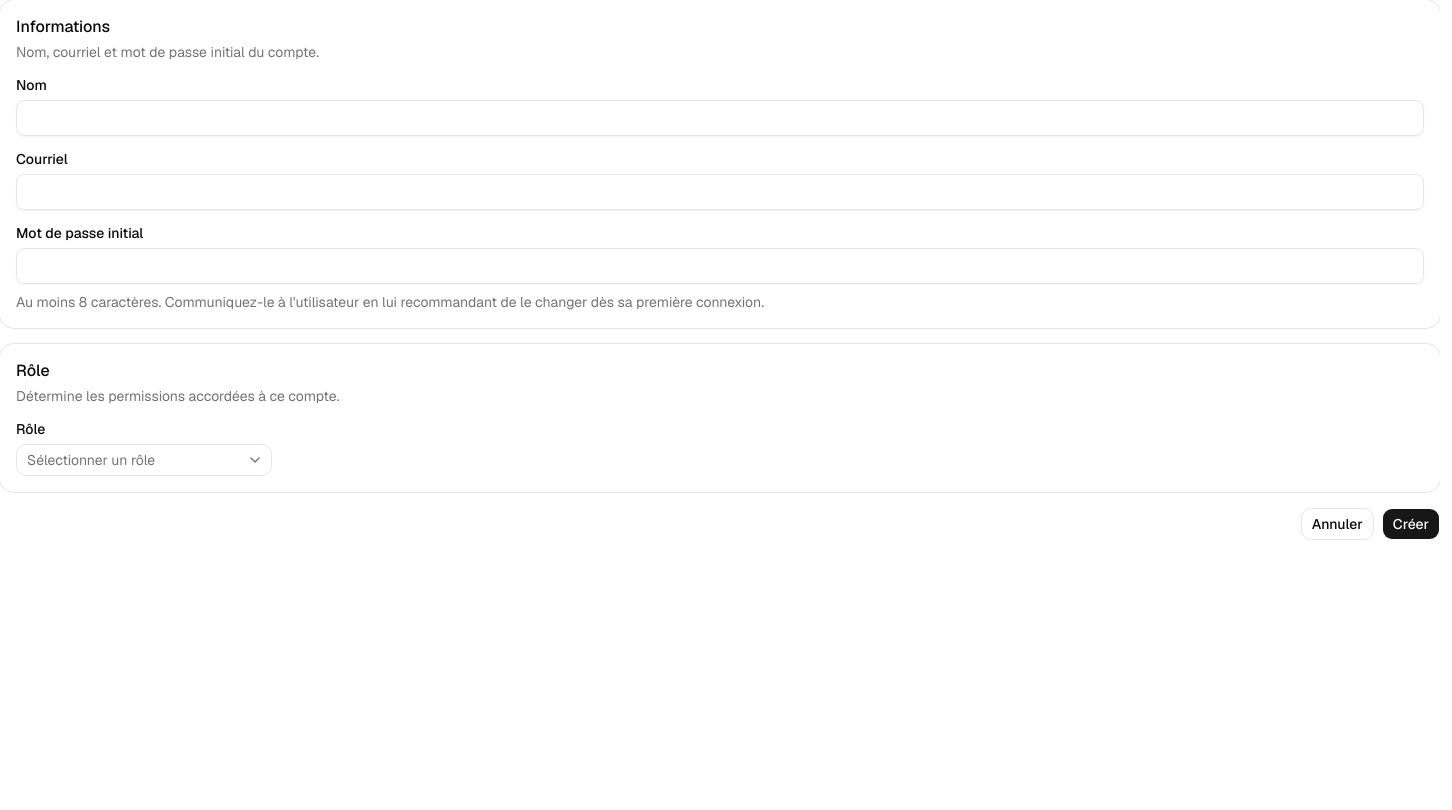
Test: UserCreateForm › affiche une erreur de validation si aucun rôle n'est sélectionné
The image size is (1452, 810).
Type "Nouvelle Personne" into the field labelled "Nom" at (720, 118), box x1=16 y1=100 x2=1424 y2=136
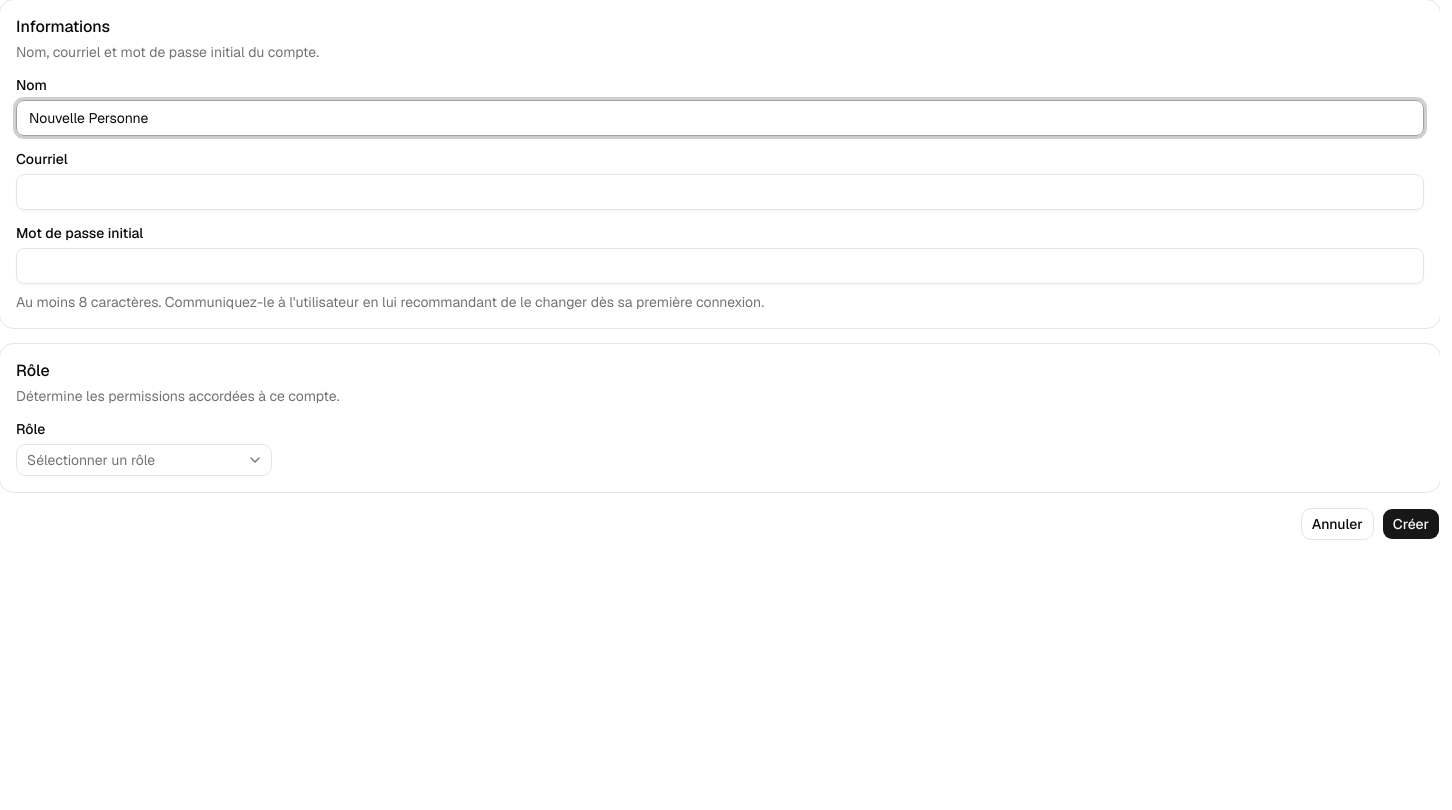
Type "nouvelle@exemple.com" into the field labelled "Courriel" at (720, 192), box x1=16 y1=174 x2=1424 y2=210
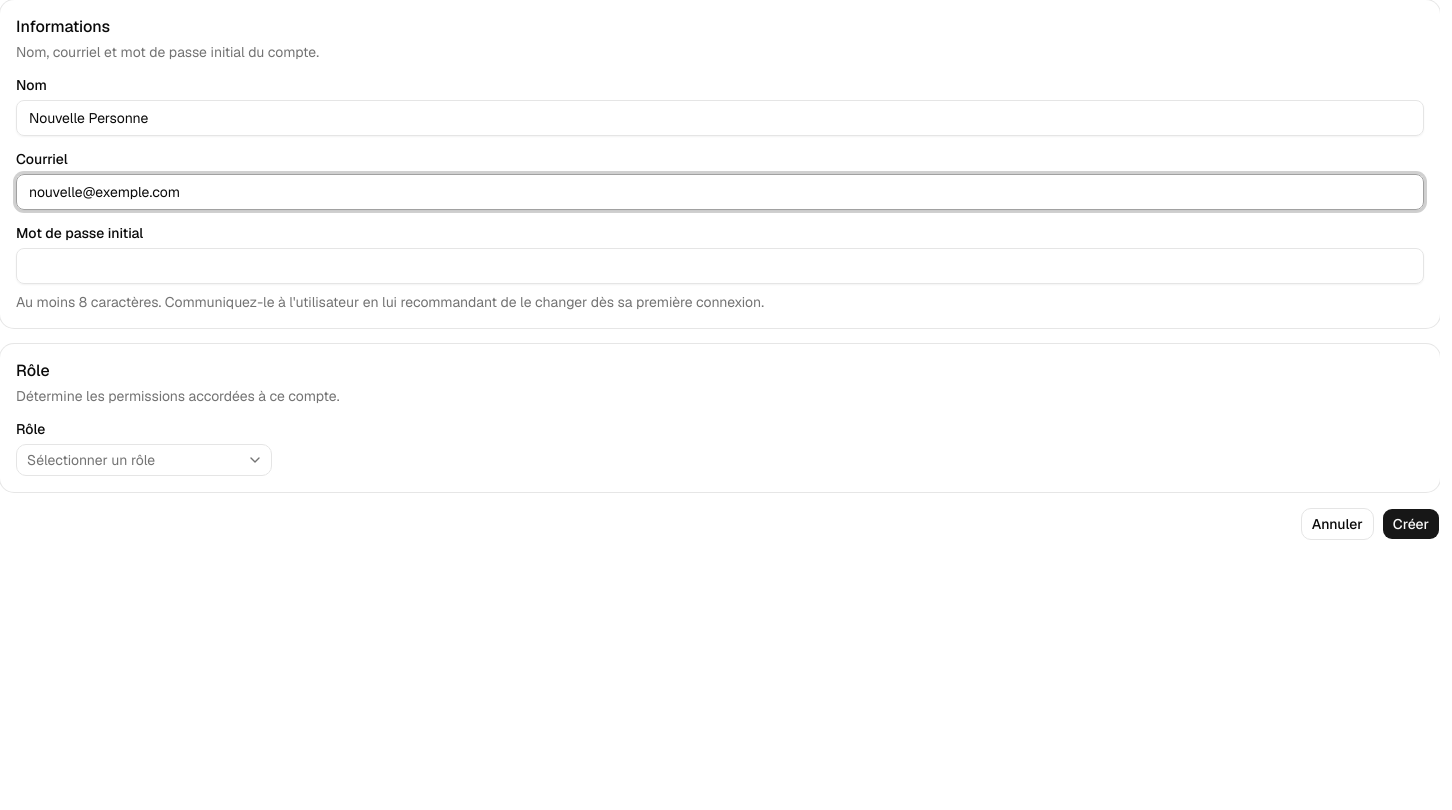
Type "motdepasse123" into the password field labelled "Mot de passe initial" at (720, 266), box x1=16 y1=248 x2=1424 y2=284
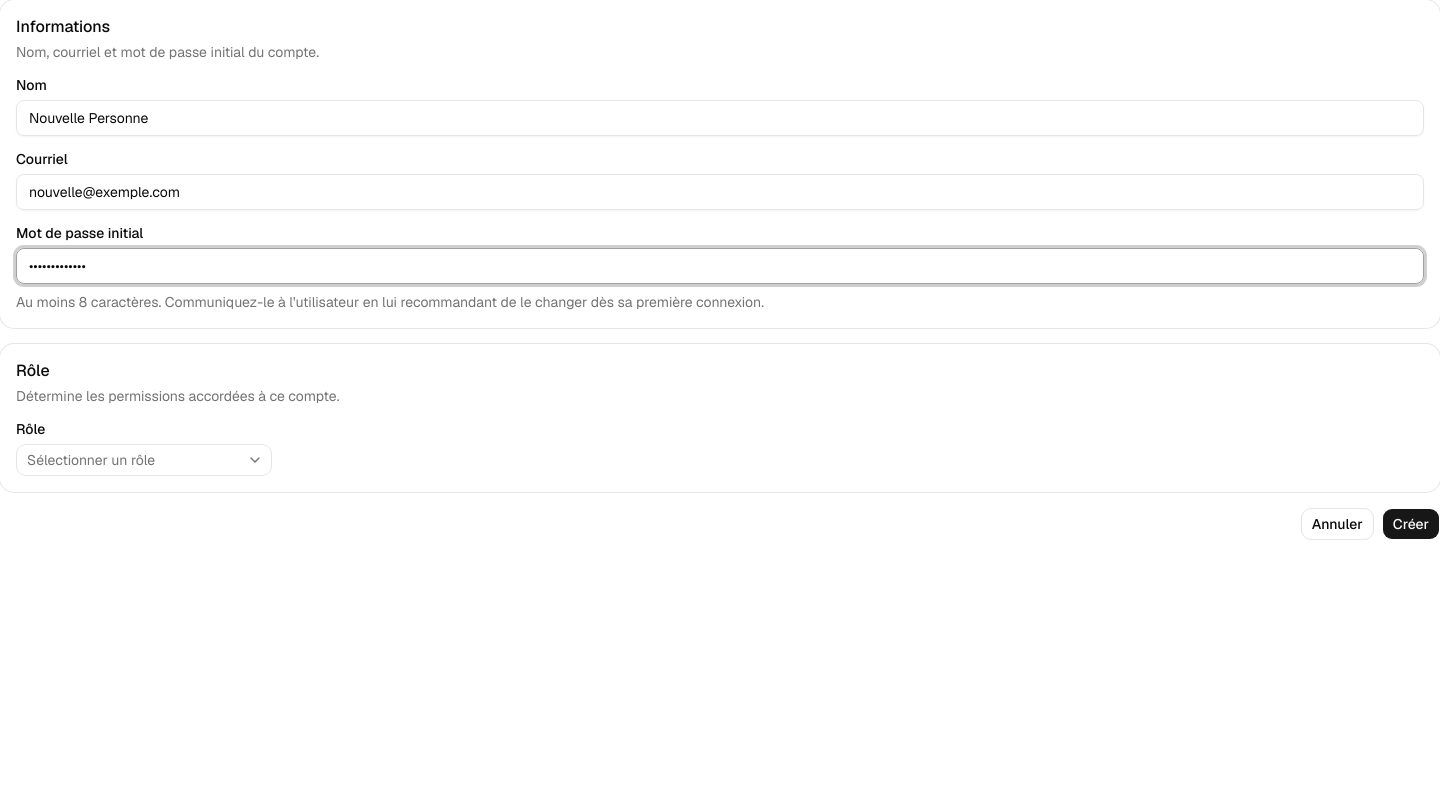
Click the button "Créer" at (1411, 524), box x1=1382 y1=508 x2=1440 y2=540
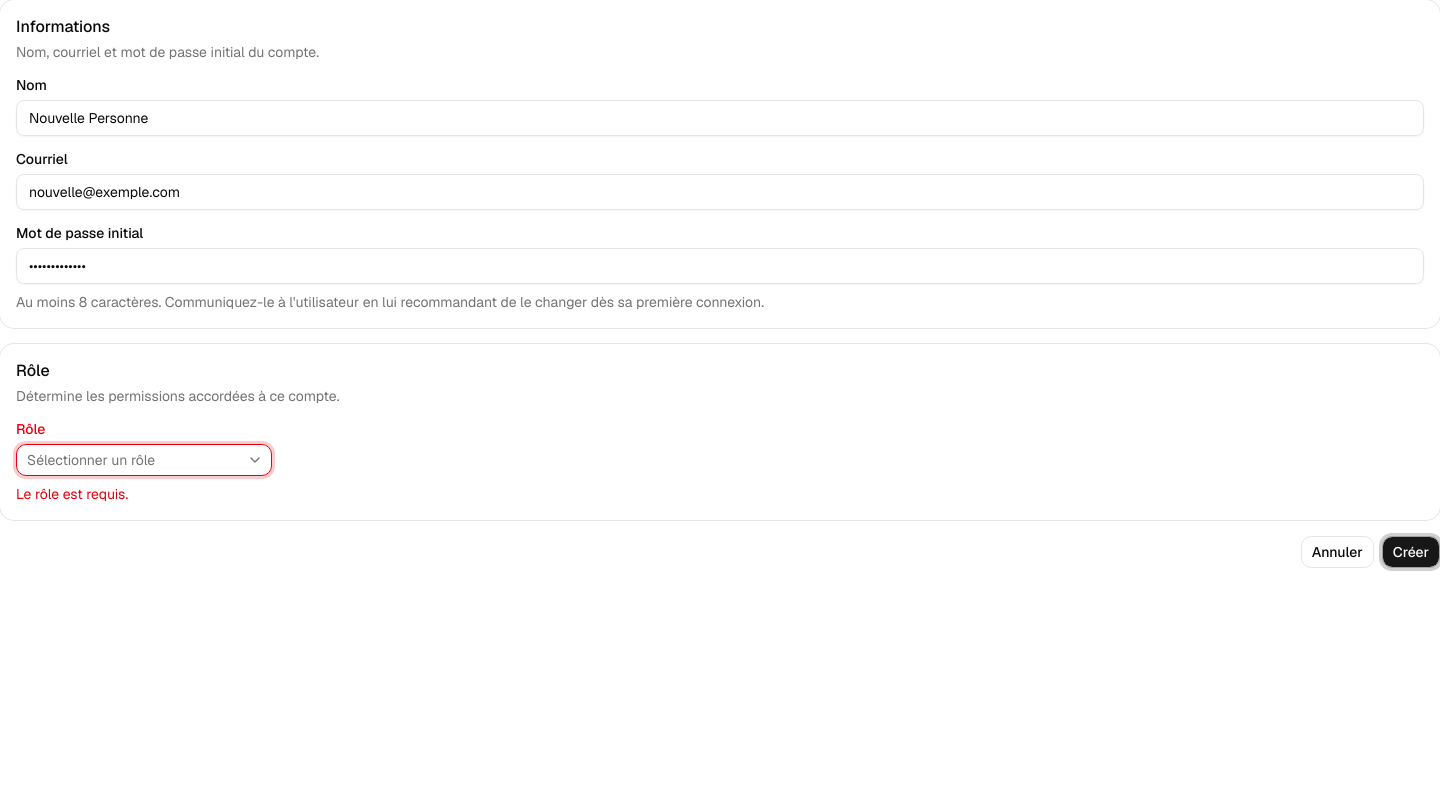
Expected: the text "Le rôle est requis." is shown, x1=16 y1=485 x2=128 y2=503
